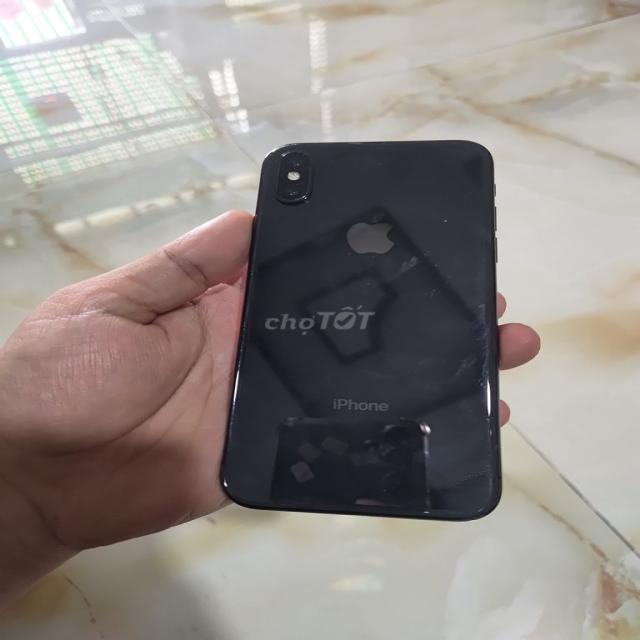gen_x_xs: (223, 141, 501, 521)
scratch: (401, 247, 492, 455), (224, 263, 262, 396), (414, 205, 460, 232), (296, 144, 326, 174), (210, 473, 244, 496), (294, 186, 323, 212), (362, 152, 390, 168)
